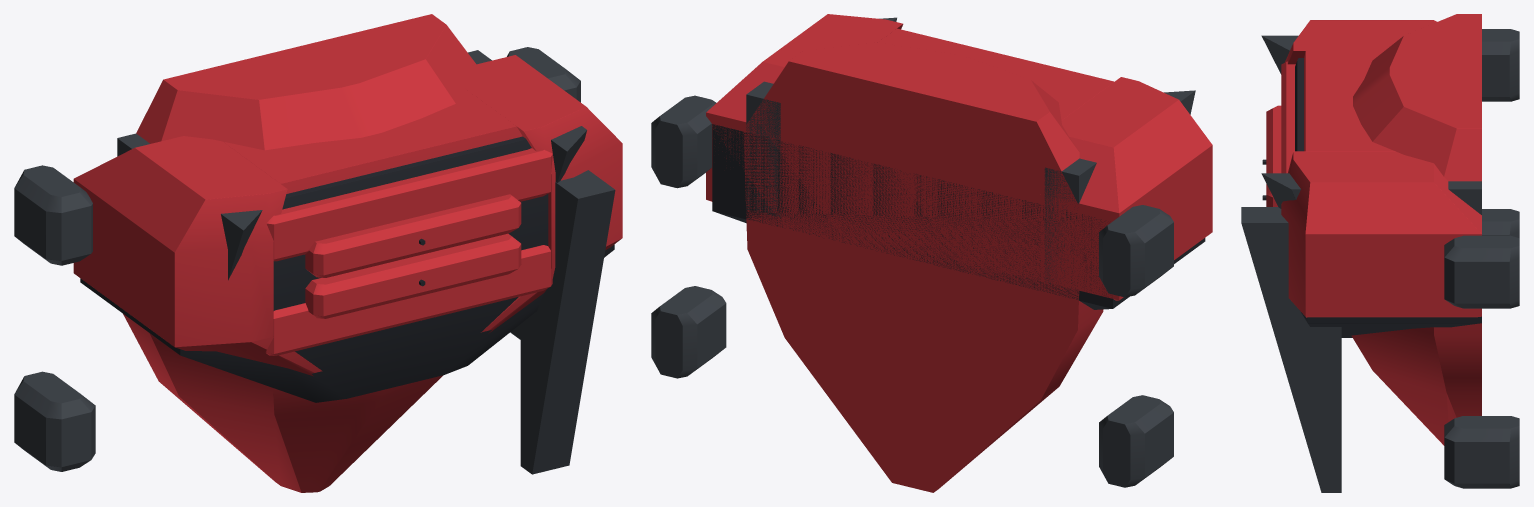
File: LowerArmFront_Set02_Bastion.fbx
3 views of the same model, side by side, from view 1: azimuth 30°, elevation 25°; view 2: azimuth 150°, elevation 25°; view 3: azimuth 270°, elevation 25° (orthographic). The views are drawn at different scales.
Visible parts, largest first — view 1: LowerArmFront_Set02_Bastion; view 2: LowerArmFront_Set02_Bastion; view 3: LowerArmFront_Set02_Bastion.
Part boxes in pixels (<box>): LowerArmFront_Set02_Bastion: <box>14,14,622,492</box>; LowerArmFront_Set02_Bastion: <box>651,14,1212,492</box>; LowerArmFront_Set02_Bastion: <box>1241,14,1519,492</box>.
Size of the model in its own units: 0.43 by 0.33 by 0.222.
